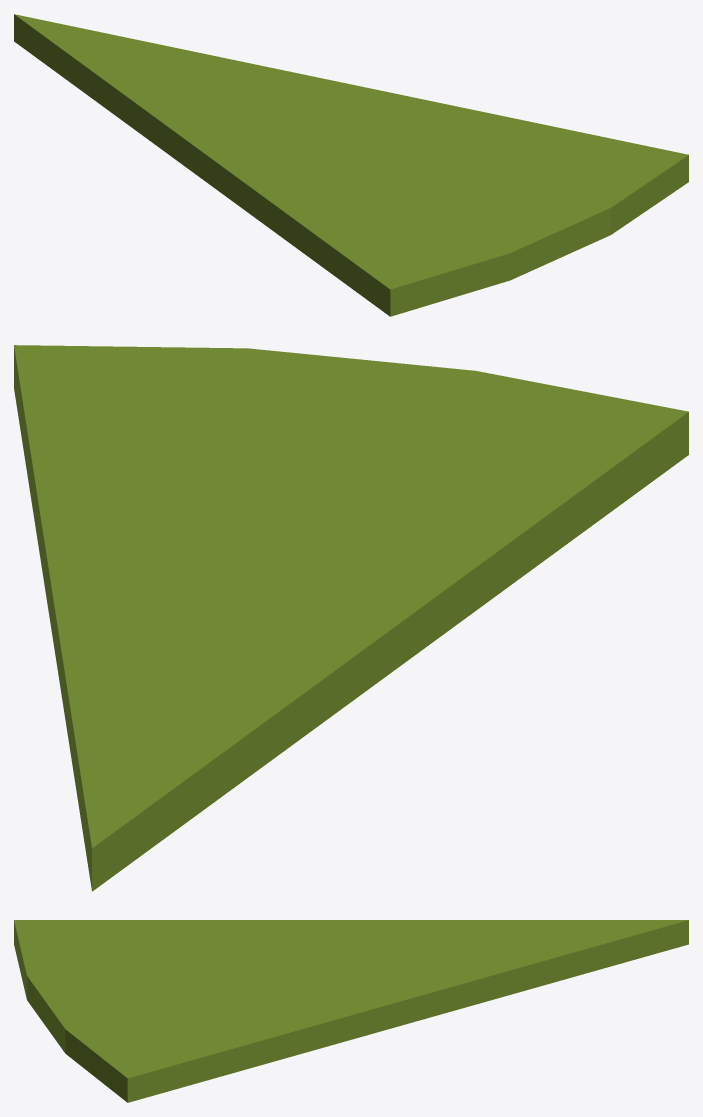
Rendered from forest_3.glb.
3 views of the same model, one above another, from view 1: azimuth 30°, elevation 25°; view 2: azimuth 150°, elevation 25°; view 3: azimuth 270°, elevation 25° (orthographic). The views are drawn at different scales.
Parts seen in each view (by area): view 1: Cylinder; view 2: Cylinder; view 3: Cylinder.
Boxes of the visible parts, bbox=[...] form: Cylinder: bbox=[14, 14, 688, 316]; Cylinder: bbox=[14, 345, 688, 891]; Cylinder: bbox=[14, 920, 688, 1102].
Size of the model in its own units: 55.56 by 4 by 100.
